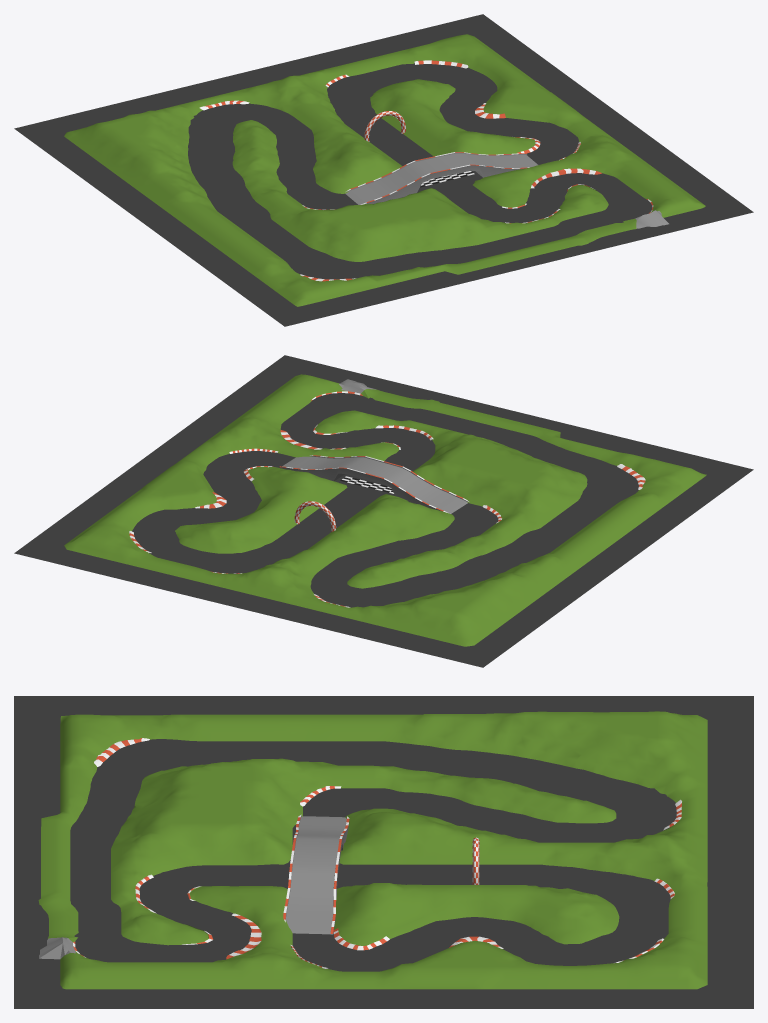
The model's file is track9.glb.
3 views of the same model, one above another, from view 1: azimuth 30°, elevation 25°; view 2: azimuth 150°, elevation 25°; view 3: azimuth 270°, elevation 25° (orthographic). The views are drawn at different scales.
Parts seen in each view (by area): view 1: tarrain, road, bridge; view 2: tarrain, road, bridge; view 3: tarrain, road, bridge.
Part boxes in pixels (x1,y1,x2,y2): tarrain: (64,34,705,306); road: (14,14,753,326); bridge: (345,152,537,204); tarrain: (64,374,706,646); road: (14,355,753,667); bridge: (279,455,469,513); tarrain: (38,711,707,989); road: (14,696,753,1008); bridge: (283,814,349,934).
Size of the model in its own units: 400 by 35.19 by 400.
Materials: 1 (1 with a texture image).
